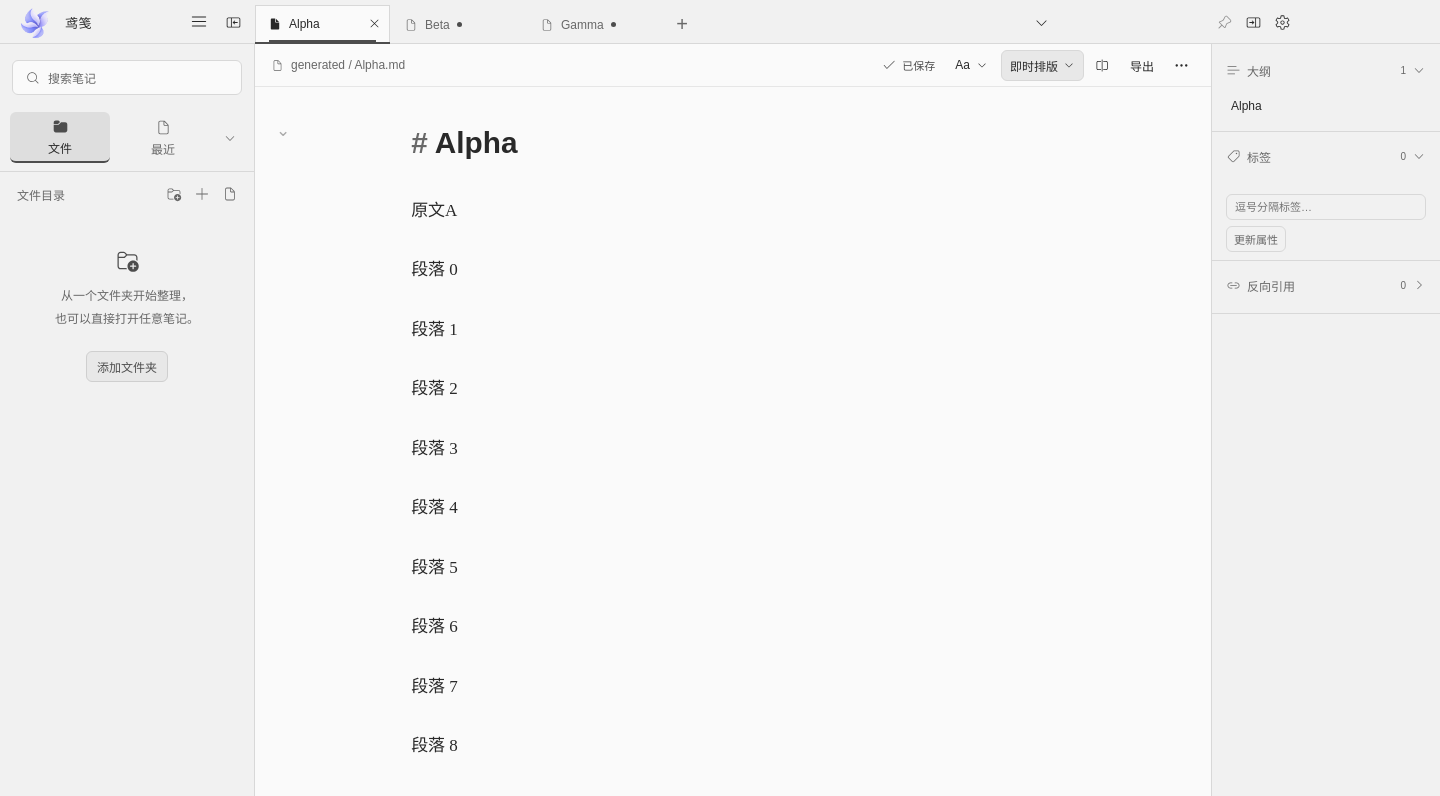
Test case: stops batch close at cancellation and can reopen the already closed saved note
This screenshot has width=1440, height=796.
Right-click the element showing "Beta" at (445, 24), box [391, 5, 499, 44]
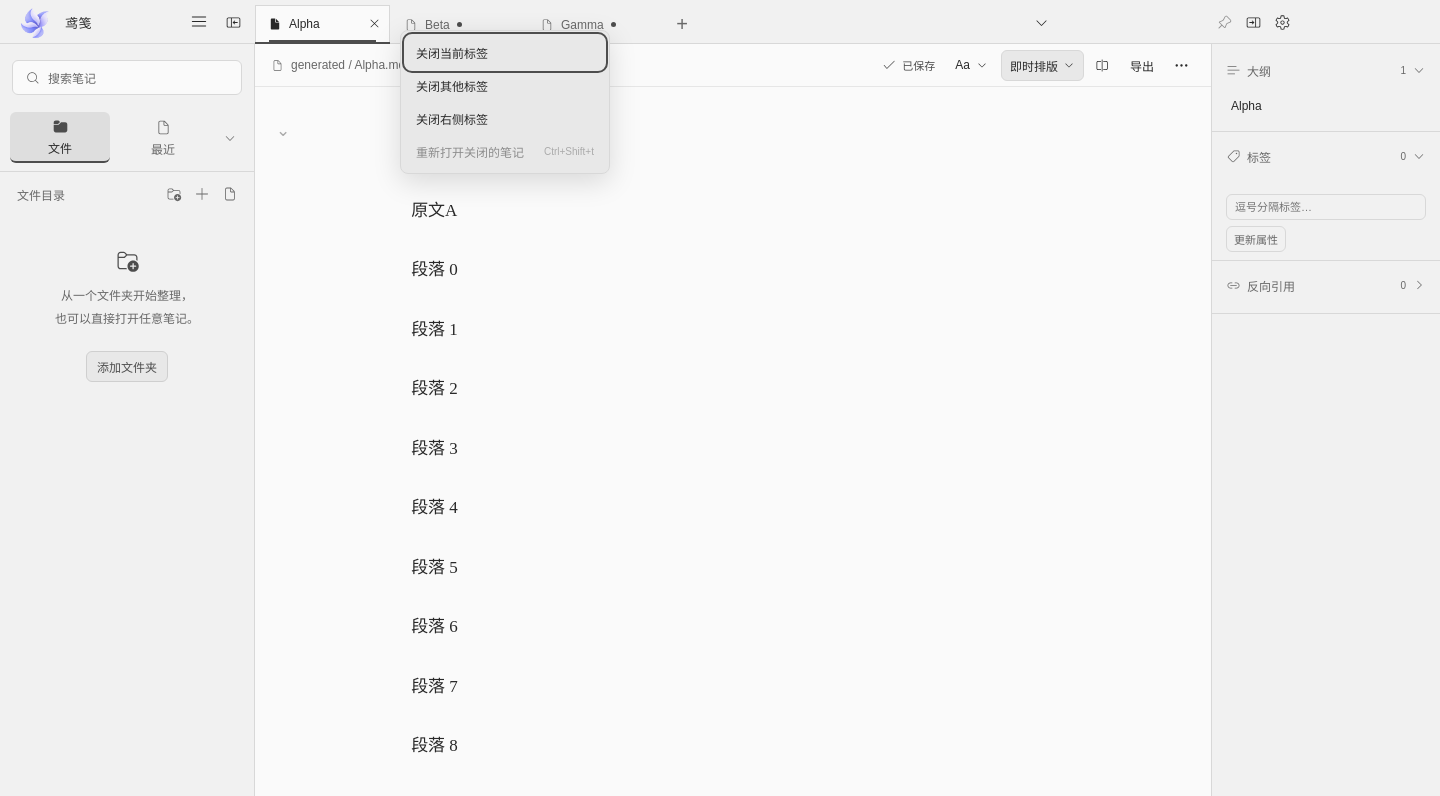
Now the menu item "关闭其他标签" is shown
Click the menu item "关闭其他标签". click: (505, 86)
box: [406, 69, 604, 102]
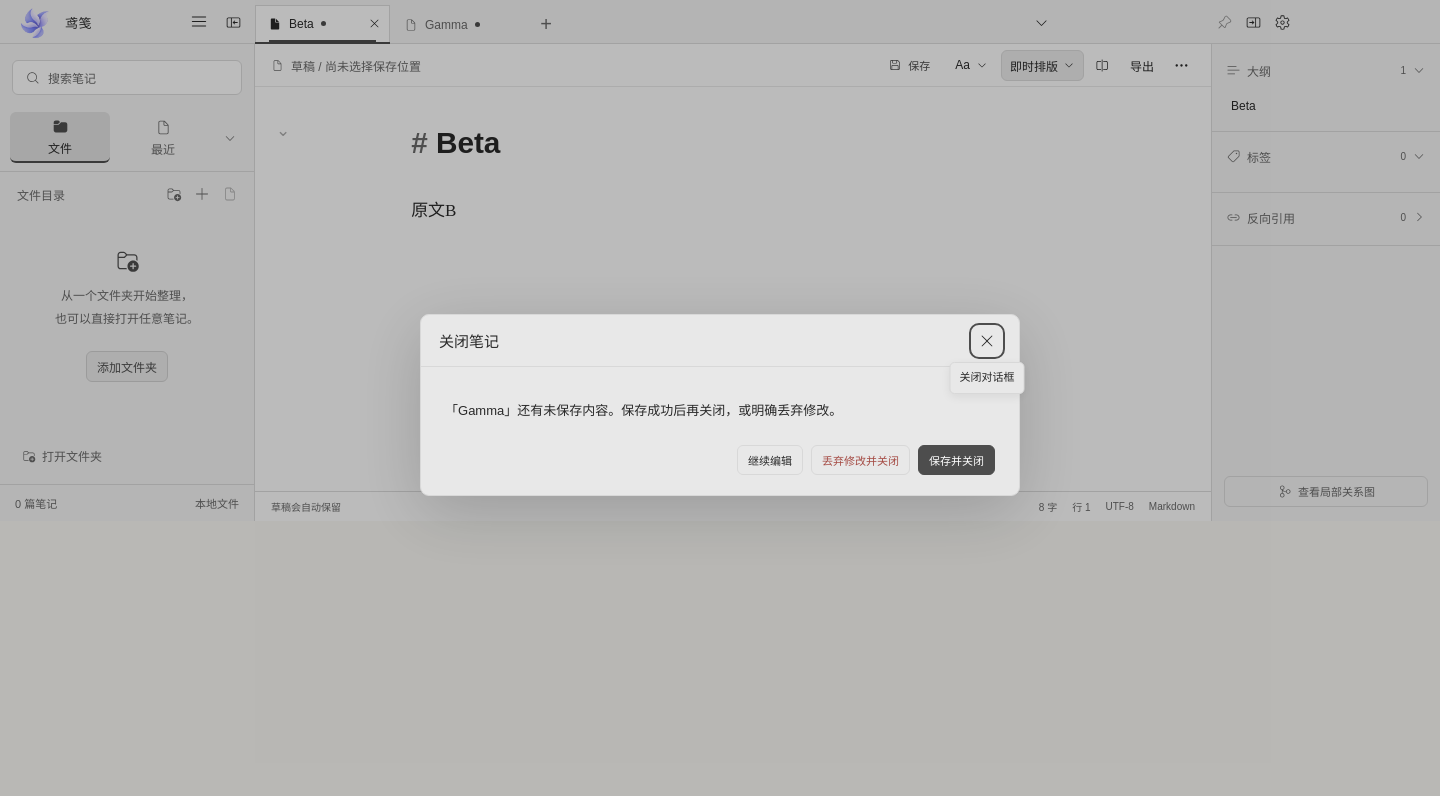
Expected: the tab "Gamma" is shown, [391, 5, 499, 44]
Now the tab with id "document-tab-note-A" is gone
Click the button "继续编辑". click: (770, 460)
box: [737, 444, 803, 474]
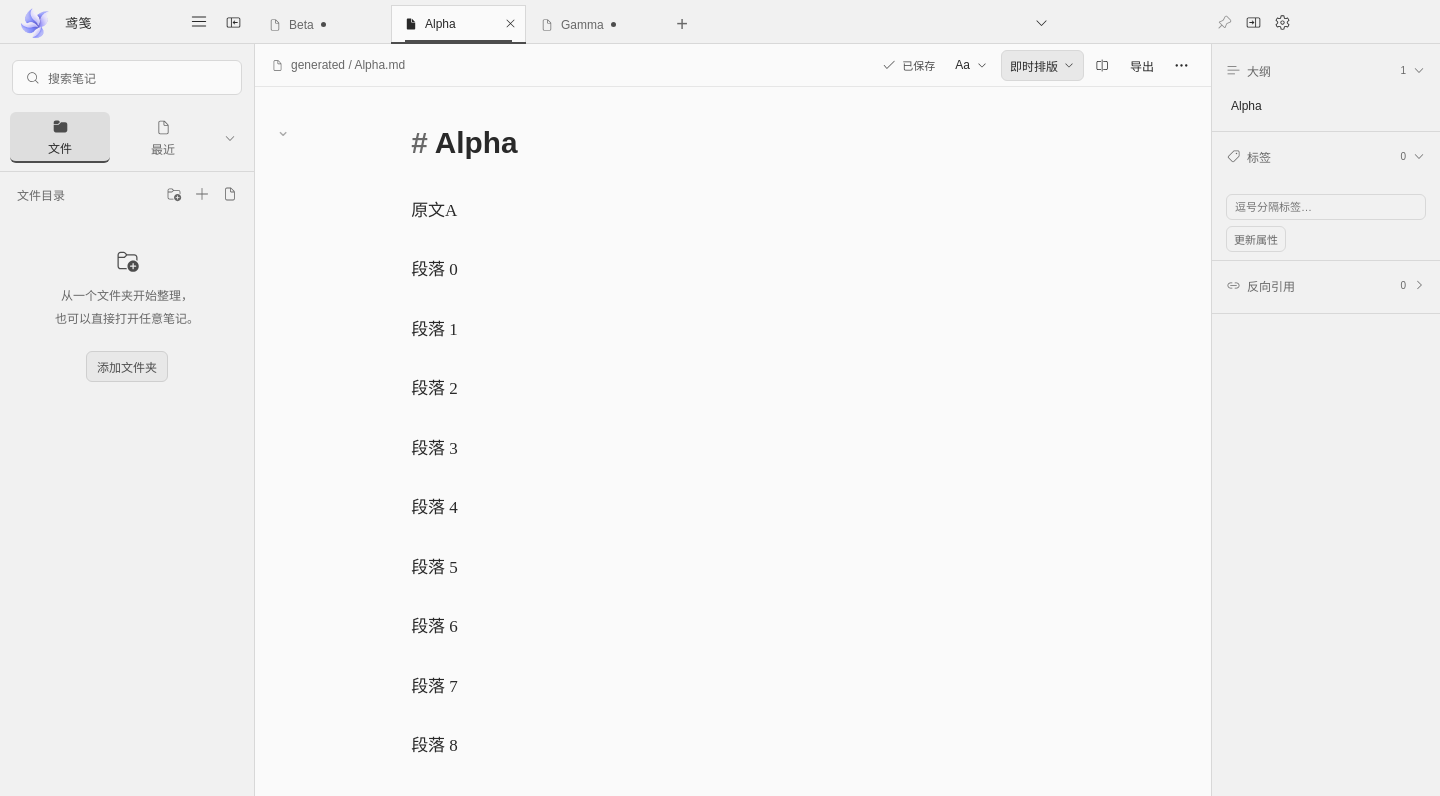
Expected: the tab "Gamma" is shown, [527, 5, 635, 44]
Now the tab with id "document-tab-note-A" is shown, box [391, 5, 499, 42]
